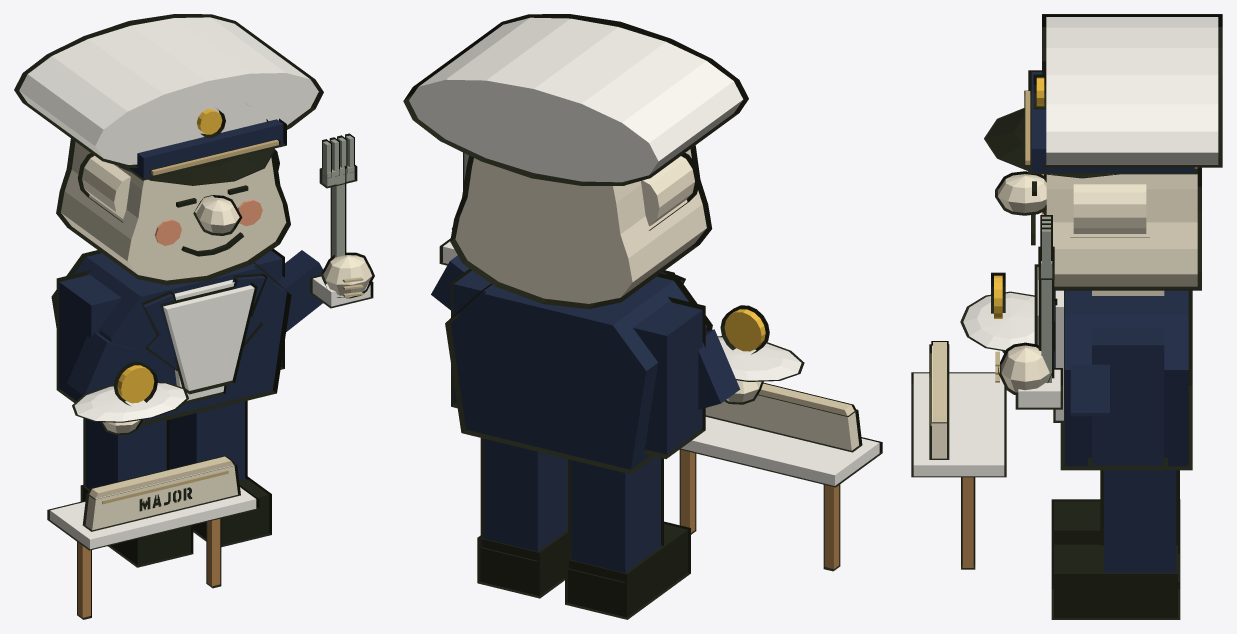
3 renders of one model, left to right at view 1: azimuth 30°, elevation 25°; view 2: azimuth 150°, elevation 25°; view 3: azimuth 270°, elevation 25°, orthographic. The views are drawn at different scales.
Parts seen in each view (by area): view 1: Link Marine; view 2: Link Marine; view 3: Link Marine.
Boxes of the visible parts, x1,y1,x2,y2 form: Link Marine: (14, 14, 374, 619); Link Marine: (403, 14, 882, 619); Link Marine: (911, 14, 1222, 619).
Bounding box in the file's own units: 0.722 × 0.9836 × 0.5155.
